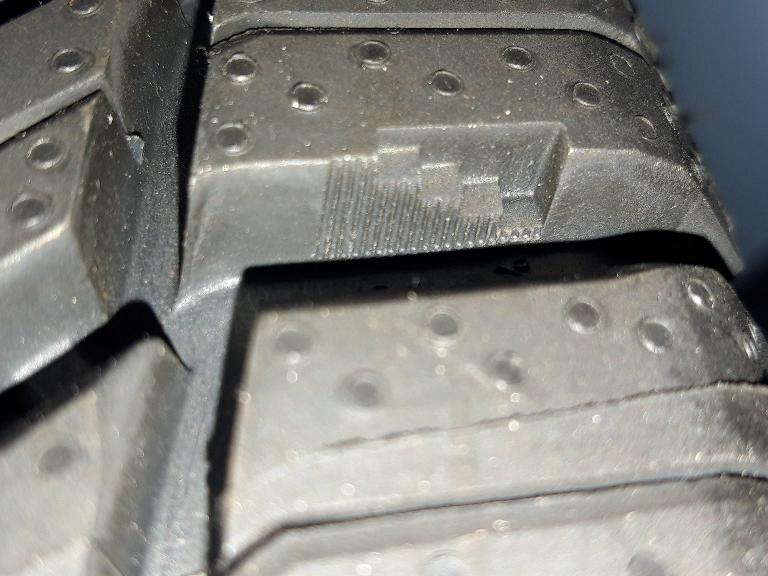temoin:100: (305, 108, 582, 270)
